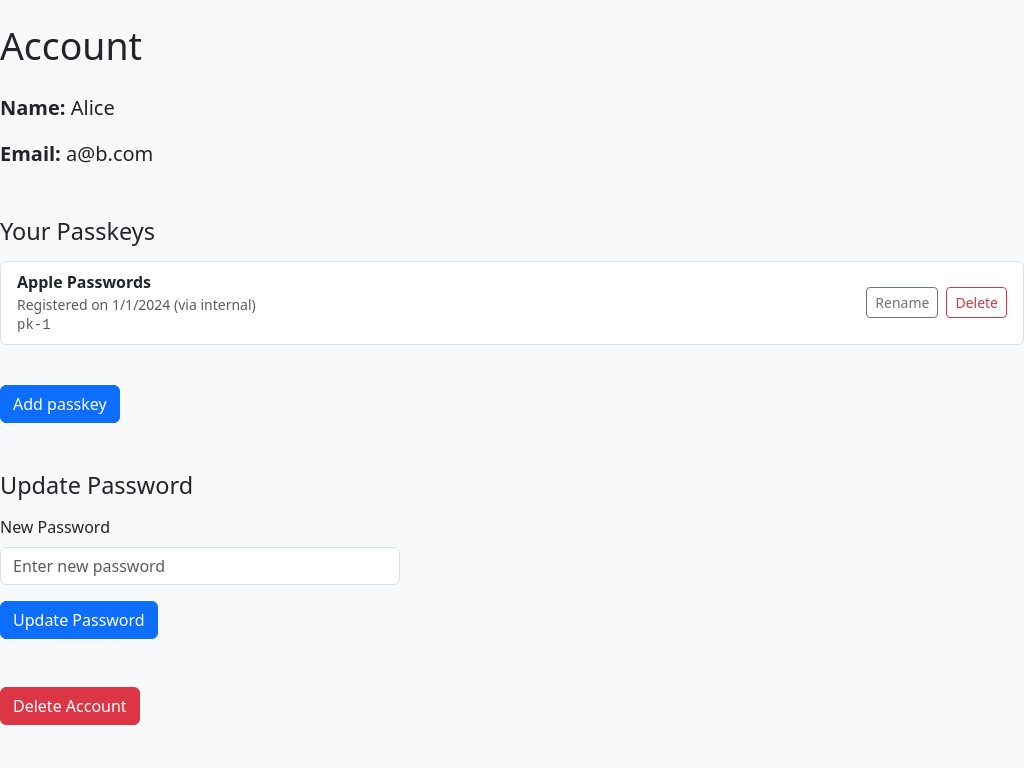
Test: AccountPage — delete passkey › opens a confirmation modal when a passkey Delete button is clicked
Click the button with aria-label "Delete Apple Passwords". click: point(977, 303)
box: [946,288,1007,318]
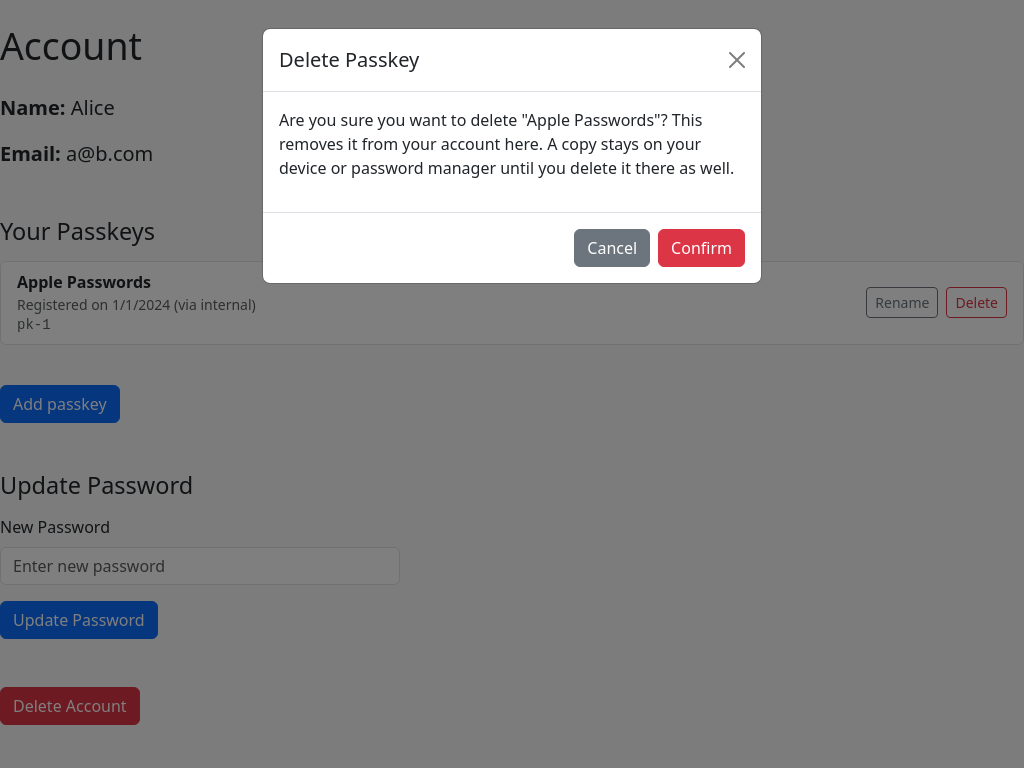
Check: the heading "Delete Passkey" is shown, box [279,45,419,75]
